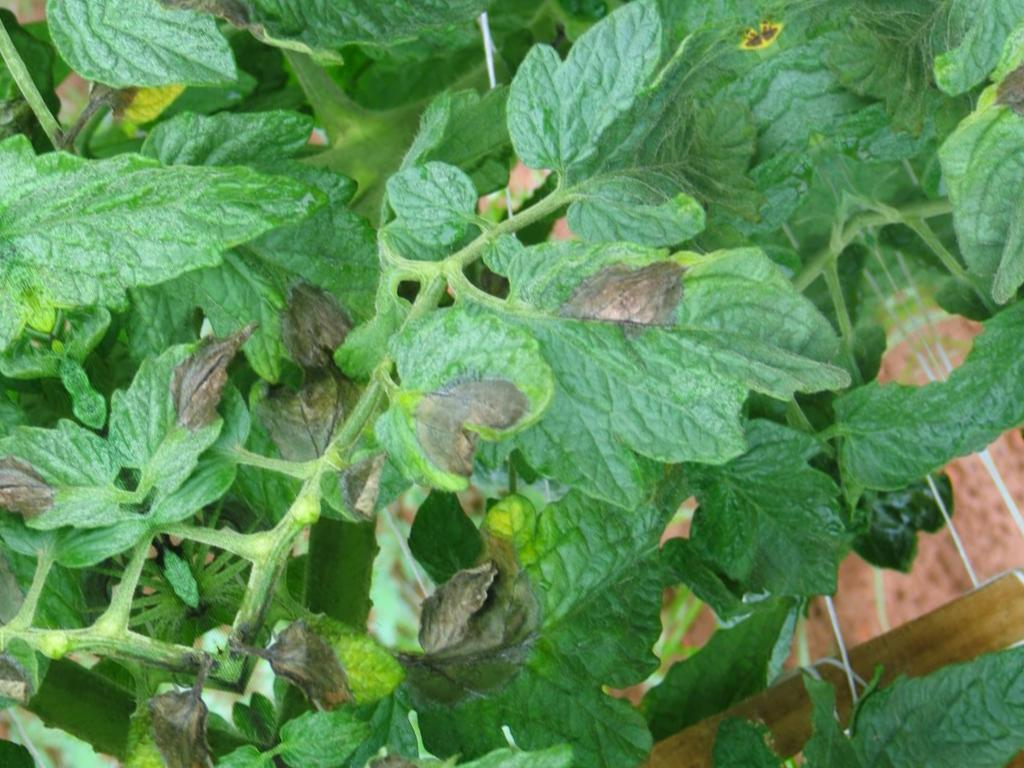Tomato leaf late blight: (430, 129, 876, 553), (324, 441, 781, 768), (347, 271, 582, 508), (89, 318, 294, 504), (234, 573, 429, 756)
